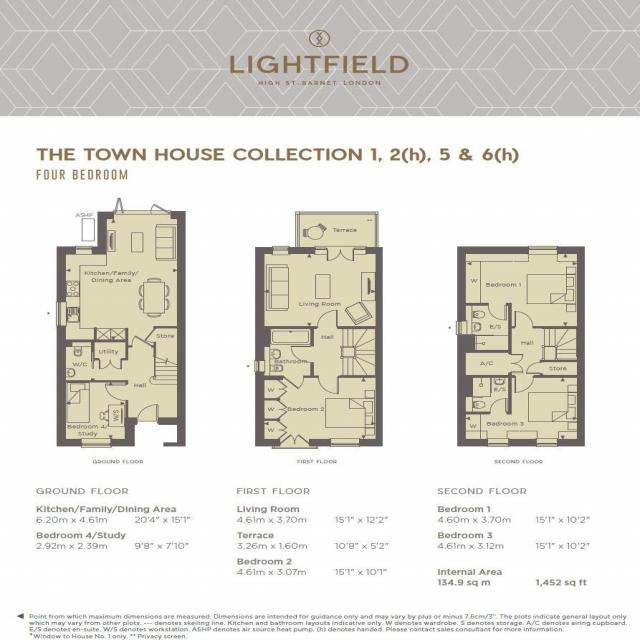DOOR: (136, 404, 160, 425), (316, 309, 339, 329), (104, 383, 129, 401), (318, 375, 340, 395), (290, 345, 314, 363), (514, 375, 535, 393), (488, 397, 508, 415), (487, 303, 507, 321), (514, 310, 534, 328), (282, 375, 305, 390), (131, 334, 152, 348)
ROOM: (56, 210, 186, 348), (457, 246, 585, 329), (255, 246, 383, 329), (255, 375, 383, 449), (457, 375, 585, 447), (56, 380, 135, 447)
WINDOW: (80, 438, 113, 448), (330, 438, 361, 448), (528, 245, 558, 255), (56, 301, 67, 326), (487, 438, 510, 447), (271, 245, 291, 255), (536, 438, 558, 447), (455, 320, 468, 335), (75, 246, 93, 255), (254, 360, 266, 373)
